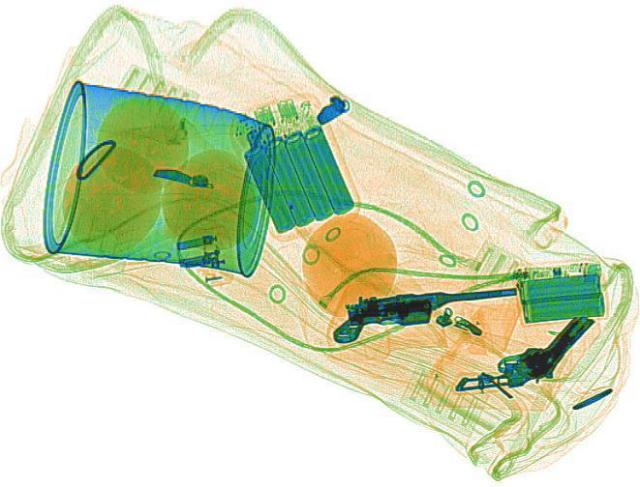Gun: (450, 296, 610, 417), (324, 281, 526, 343)
